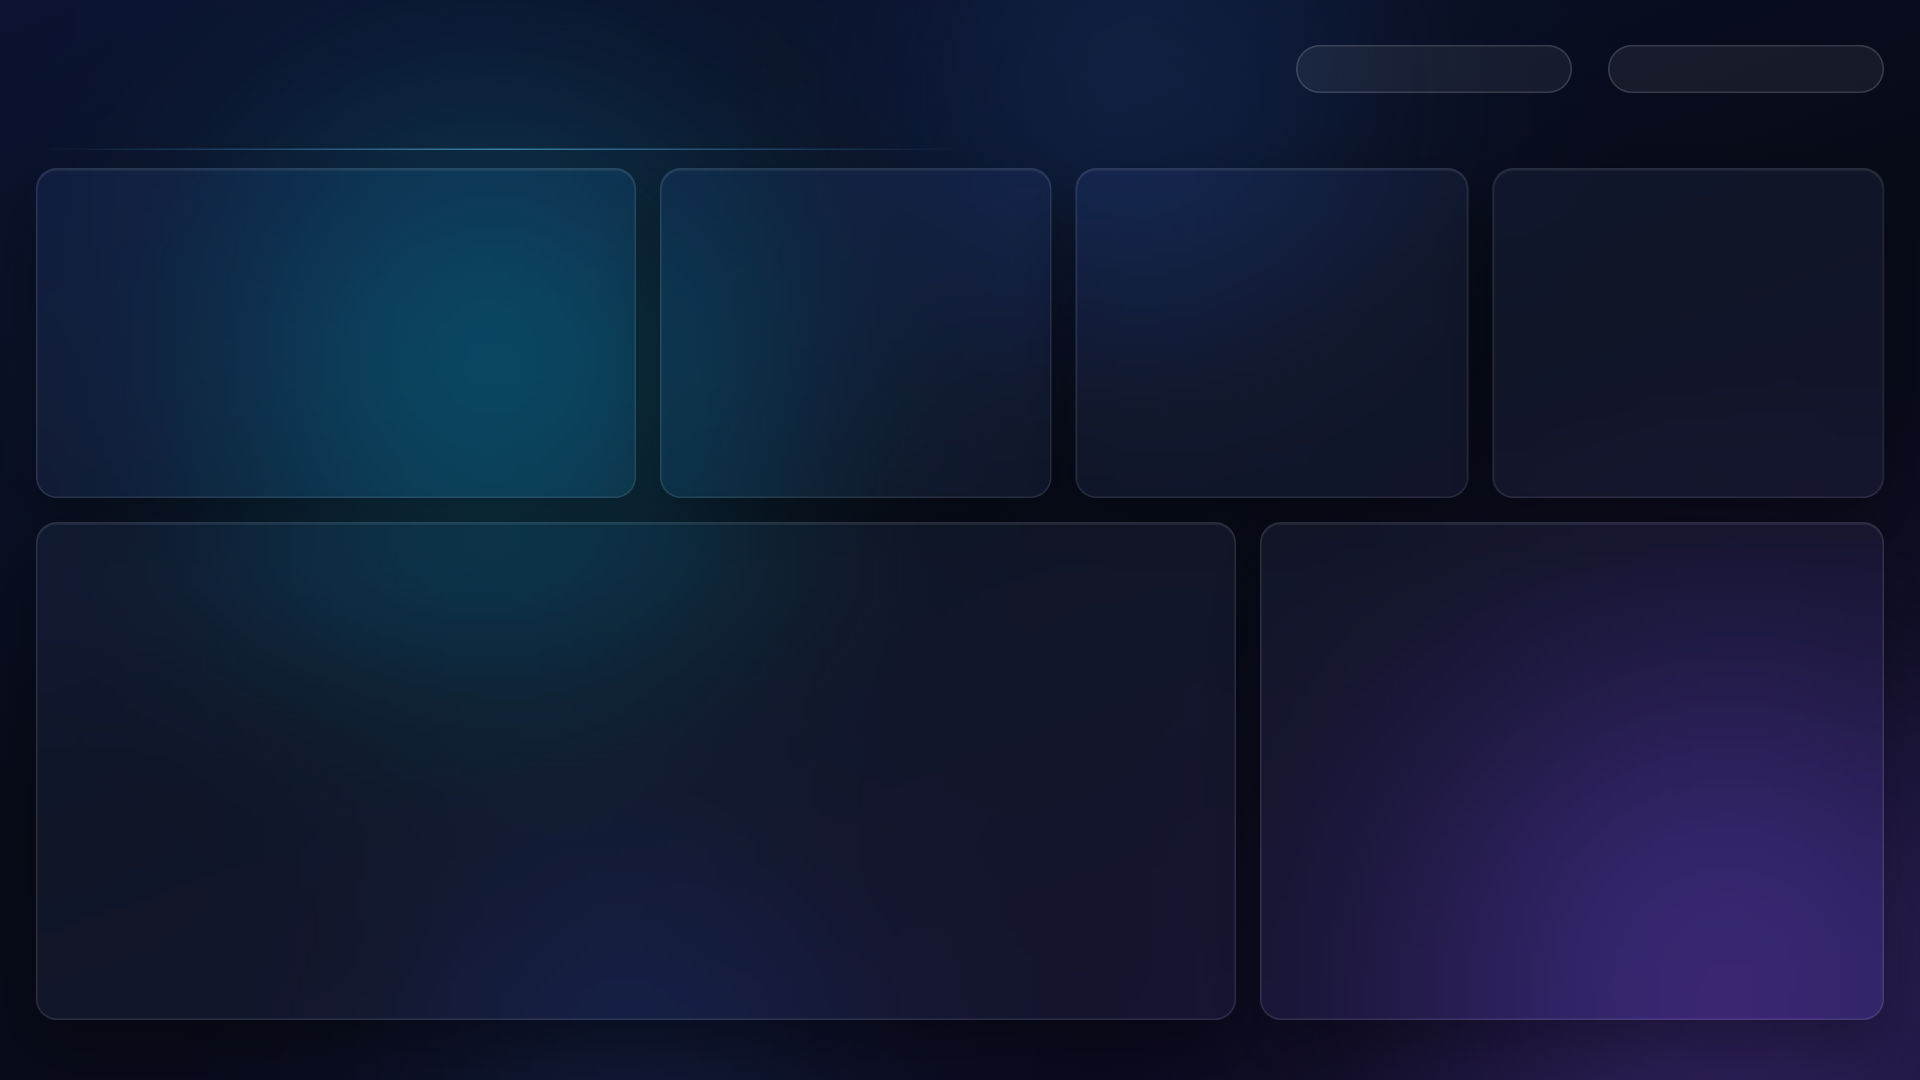

The dashboard page shown, as its layout file describes it:
{"tool":"powerbi","page":{"name":"Resumen","canvas":[1280,720],"ordinal":0},"visuals":[{"type":"card","title":"Ventas netas","fields":{"Values":["Ventas.Total ventas"]},"box":[24,24,280,120],"z":1000},{"type":"card","title":"Margen bruto","fields":{"Values":["Ventas.Margen %"]},"box":[320,24,280,120],"z":2000},{"type":"slicer","fields":{"Values":["Region.Region"]},"box":[980,24,276,120],"z":3000},{"type":"clusteredColumnChart","title":"Ventas netas por mes","fields":{"Category":["Ventas.Mes"],"Y":["Ventas.Total ventas"]},"box":[24,168,820,528],"z":4000},{"type":"tableEx","title":"Productos","fields":{"Values":["Ventas.Producto","Sum(Ventas.Costo)","Ventas.Unidades netas"]},"box":[868,168,388,528],"z":5000}]}

Visuals, with their boxes in screenshot pixels (x1, y1, x2, y2), scaled from the page's 1280x720 canvas onto the 1920x1080 screenshot:
"Ventas netas" card: box(36, 36, 456, 216)
"Margen bruto" card: box(480, 36, 900, 216)
slicer - Region.Region: box(1470, 36, 1884, 216)
"Ventas netas por mes" clusteredColumnChart: box(36, 252, 1266, 1044)
"Productos" tableEx: box(1302, 252, 1884, 1044)
